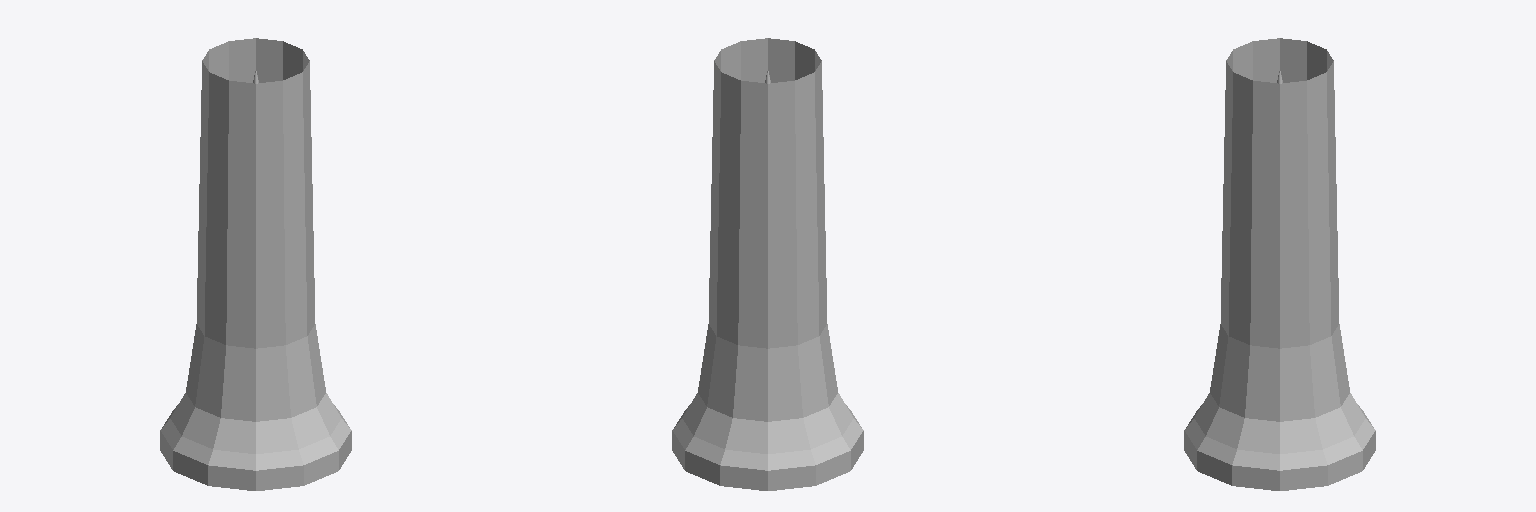
File: OboeHorn.obj
The picture shows the model from 3 angles: view 1: azimuth 30°, elevation 25°; view 2: azimuth 150°, elevation 25°; view 3: azimuth 270°, elevation 25°; orthographic projection.
Visible parts, largest first — view 1: ClarinetHorn_Cylinder.013; view 2: ClarinetHorn_Cylinder.013; view 3: ClarinetHorn_Cylinder.013.
Boxes of the visible parts, box(x1,y1,x2,y2) form: ClarinetHorn_Cylinder.013: box(160, 38, 351, 490); ClarinetHorn_Cylinder.013: box(672, 38, 863, 490); ClarinetHorn_Cylinder.013: box(1184, 38, 1375, 490).
Bounding box in the file's own units: 1.88 × 4.24 × 1.88.